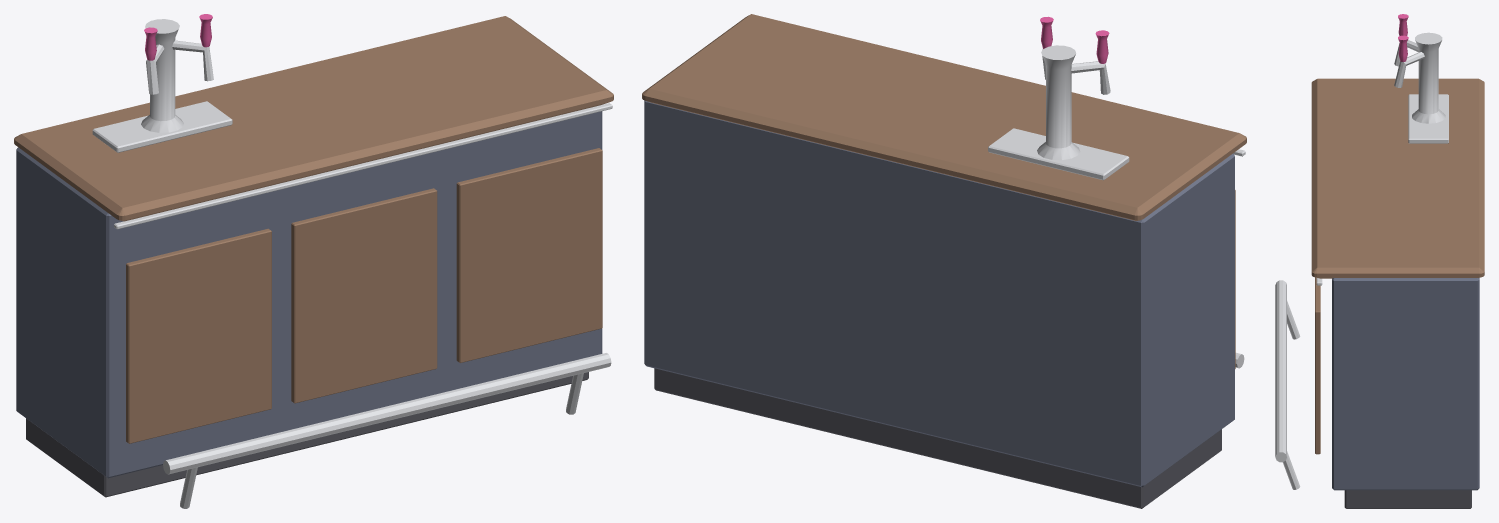
Rendered from bar_balcao.glb.
3 views of the same model, side by side, from view 1: azimuth 30°, elevation 25°; view 2: azimuth 150°, elevation 25°; view 3: azimuth 270°, elevation 25° (orthographic). The views are drawn at different scales.
Visible parts, largest first — view 1: bar-counter-section; view 2: bar-counter-section; view 3: bar-counter-section.
Boxes of the visible parts, left/top/right/bottom form: bar-counter-section: left=14, top=14, right=613, bottom=508; bar-counter-section: left=642, top=14, right=1246, bottom=508; bar-counter-section: left=1275, top=14, right=1484, bottom=508.
Size of the model in its own units: 1.8 by 1.46 by 0.8229.
